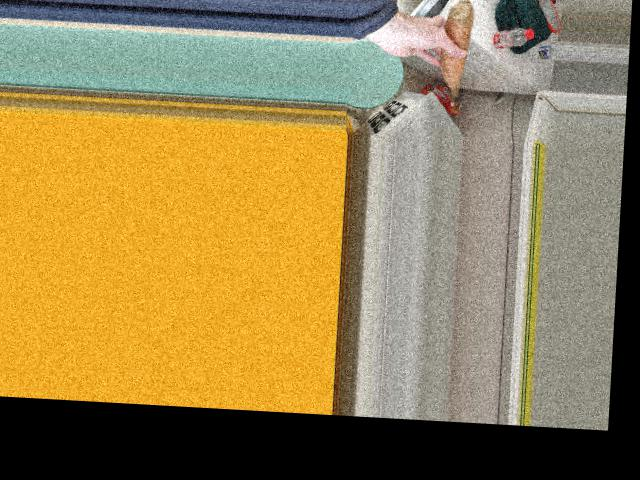sweet_potato: (440, 12, 465, 88)
